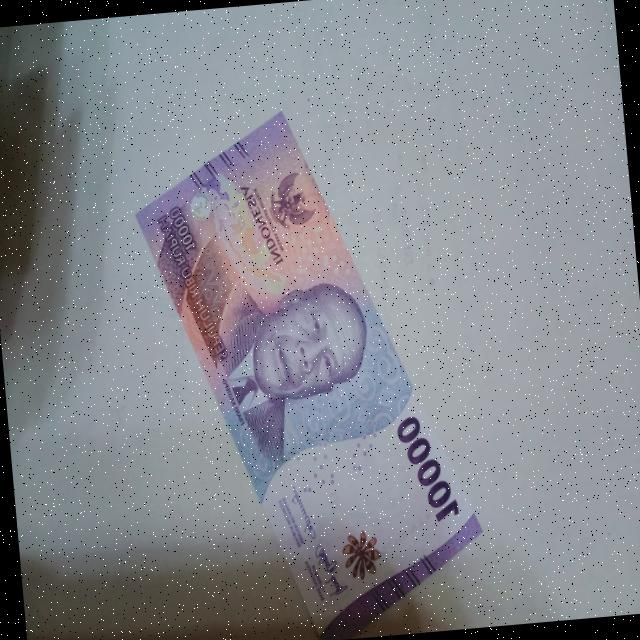10K: (121, 80, 498, 640)
